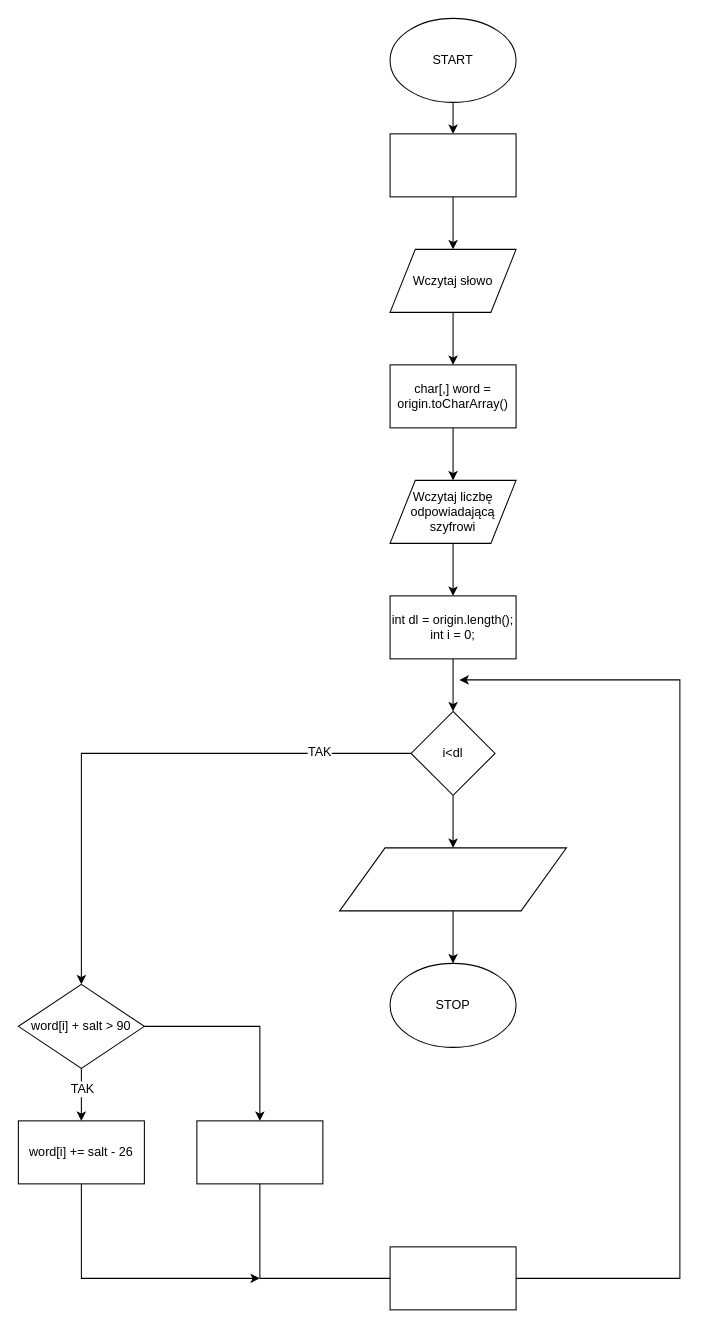
The diagram is 707 pixels wide and 1328 high, and some of its shapes have lost their labels. Here are the shapes that lost their labels. From the top down, the box of each, then its label:
(389, 133, 516, 197): String origin; int salt;
(339, 847, 566, 911): Wypisz odszyfrowane słowo
(196, 1120, 323, 1184): word[i] += salt
(389, 1246, 516, 1310): i++
